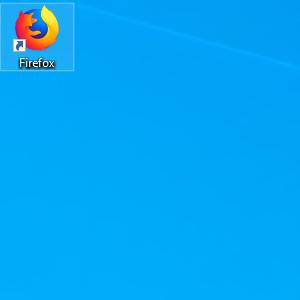firefox: (13, 5, 60, 52)
